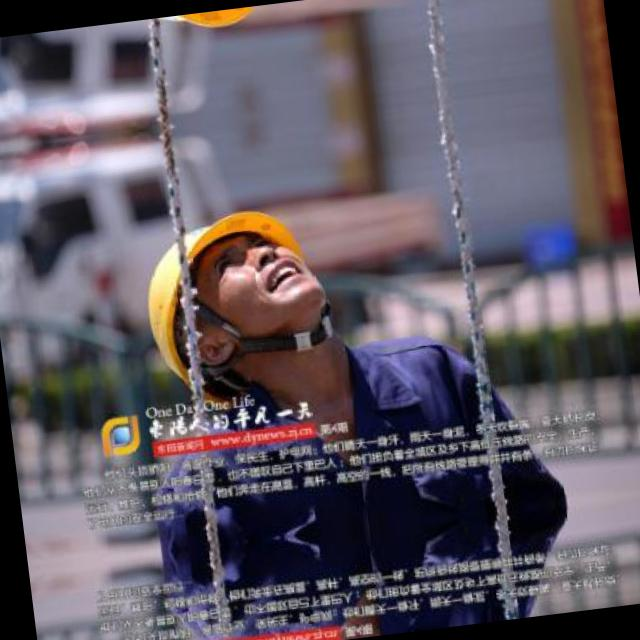helmet: (148, 182, 343, 377), (125, 0, 305, 56)
